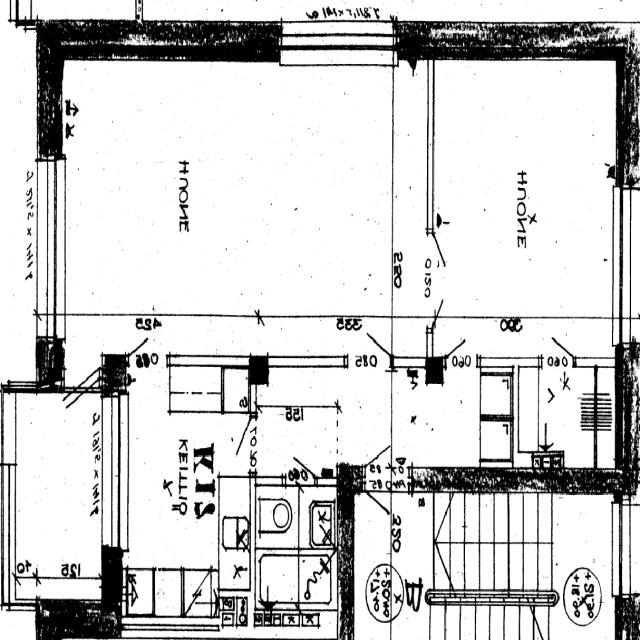door: (348, 288, 392, 367), (365, 482, 409, 559), (365, 400, 409, 477), (128, 296, 167, 367), (64, 368, 98, 444), (64, 315, 98, 391), (213, 417, 254, 472), (542, 308, 574, 367), (446, 308, 478, 367), (427, 280, 464, 328), (427, 232, 464, 280), (285, 430, 315, 486)
